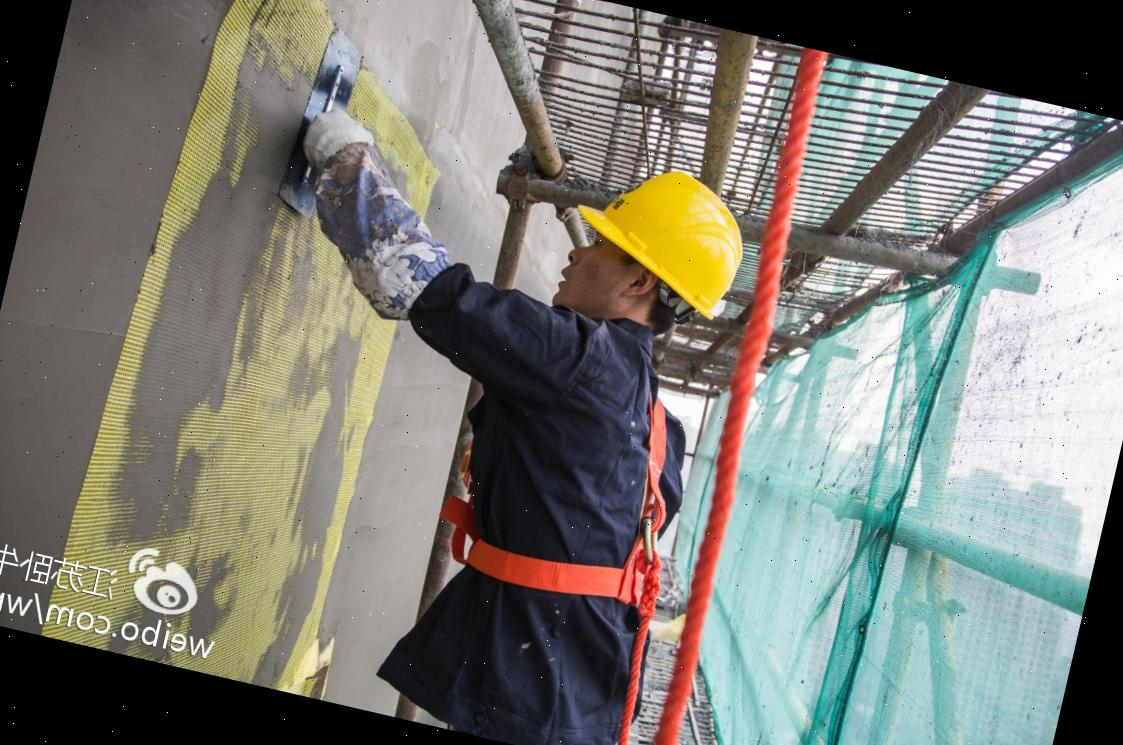helmet: (536, 141, 773, 329)
wear: (416, 293, 730, 709)
